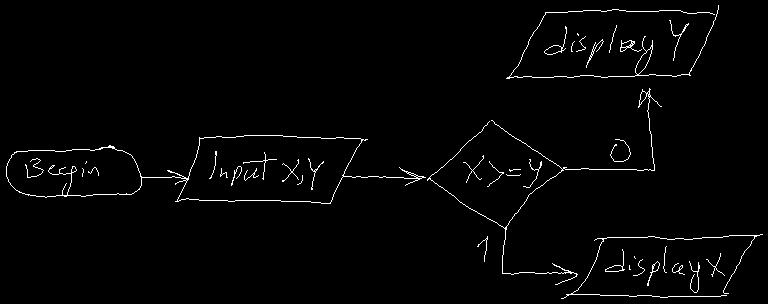arrow: (563, 88, 661, 170), (502, 227, 577, 284), (342, 167, 425, 185), (140, 170, 188, 184)
data: (506, 5, 718, 78), (175, 135, 367, 203), (561, 234, 762, 298)
decision: (427, 120, 563, 229)
terminator: (6, 145, 141, 197)
text: (544, 20, 688, 74), (605, 246, 724, 292), (209, 151, 323, 189), (25, 158, 98, 196), (463, 155, 541, 187), (610, 139, 630, 161), (477, 236, 487, 261)
